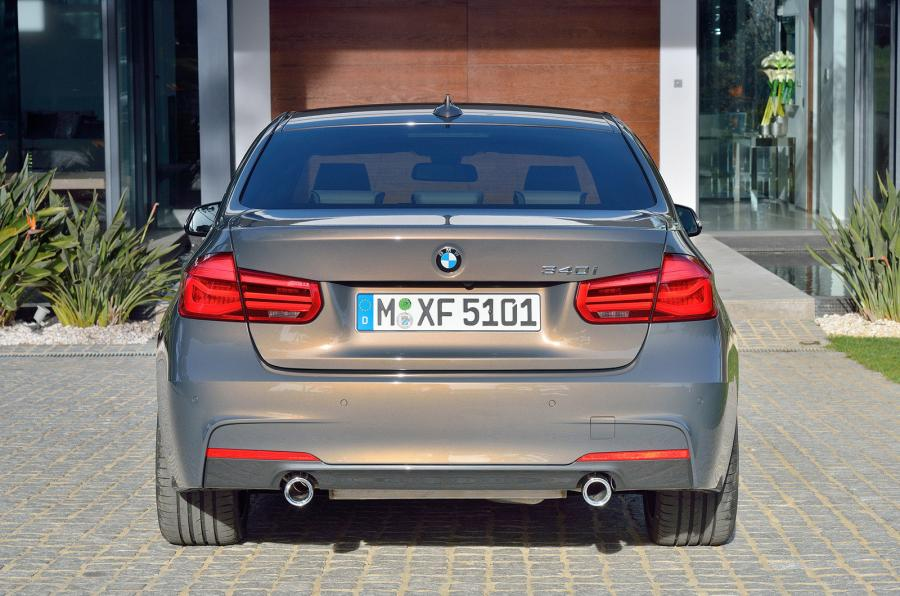bmw: (148, 99, 746, 564)
